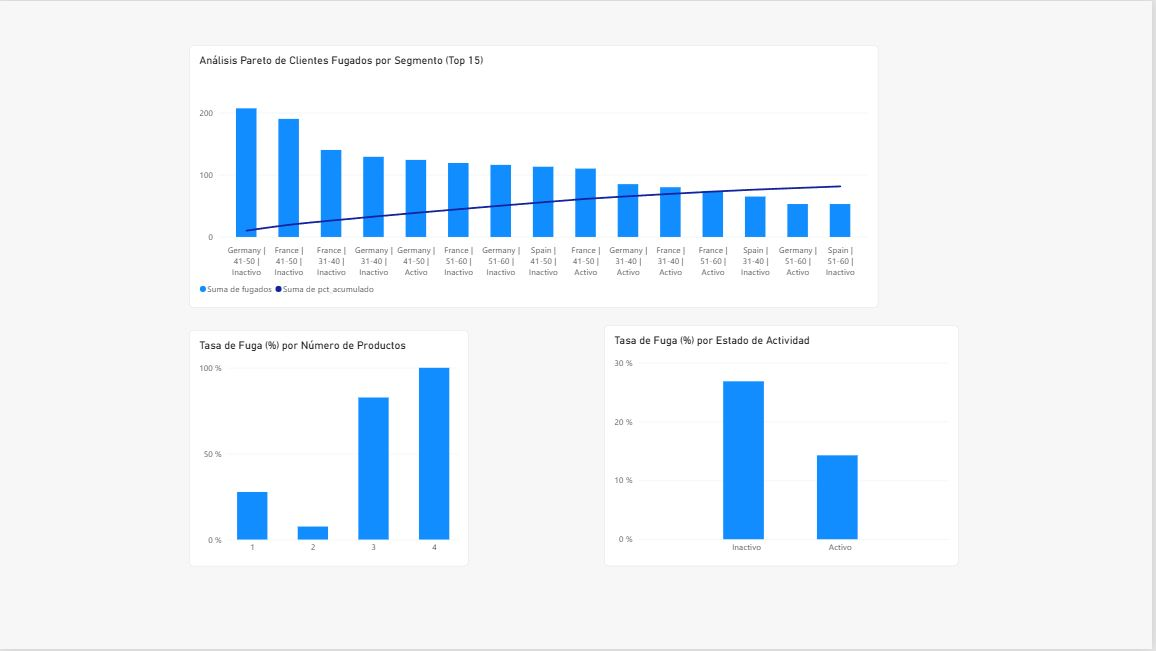

This screenshot's page, from the dashboard's own definition file:
{"tool":"powerbi","page":{"name":"Perfil de Riesgo y Curva de Pareto","canvas":[1920,1080],"ordinal":1},"visuals":[{"type":"lineStackedColumnComboChart","title":"Análisis Pareto de Clientes Fugados por Segmento (Top 15)","fields":{"Category":["Pareto_Segmentos.segmento"],"Y":["Sum(Pareto_Segmentos.fugados)"],"Y2":["Max(Pareto_Segmentos.pct_acumulado_100)"]},"box":[314.2,73,1148.6,437.9],"z":0},{"type":"columnChart","title":"Tasa de Fuga (%) por Número de Productos","fields":{"Category":["Dim_Producto.num_of_products"],"Y":["_Medidas.Churn Rate %"]},"box":[314.8,548.6,466,394.3],"z":1000},{"type":"columnChart","title":"Tasa de Fuga (%) por Estado de Actividad","fields":{"Category":["Dim_Producto.actividad_label"],"Y":["_Medidas.Churn Rate %"]},"box":[1006.8,540.8,590.6,402.1],"z":2000}]}

Visuals, with their boxes in screenshot pixels (x1, y1, x2, y2), scaled from the page's 1920x1080 canvas onto the 1156x651 screenshot:
"Análisis Pareto de Clientes Fugados por Segmento (Top 15)" lineStackedColumnComboChart: 189 44 881 308
"Tasa de Fuga (%) por Número de Productos" columnChart: 190 331 470 568
"Tasa de Fuga (%) por Estado de Actividad" columnChart: 606 326 962 568
